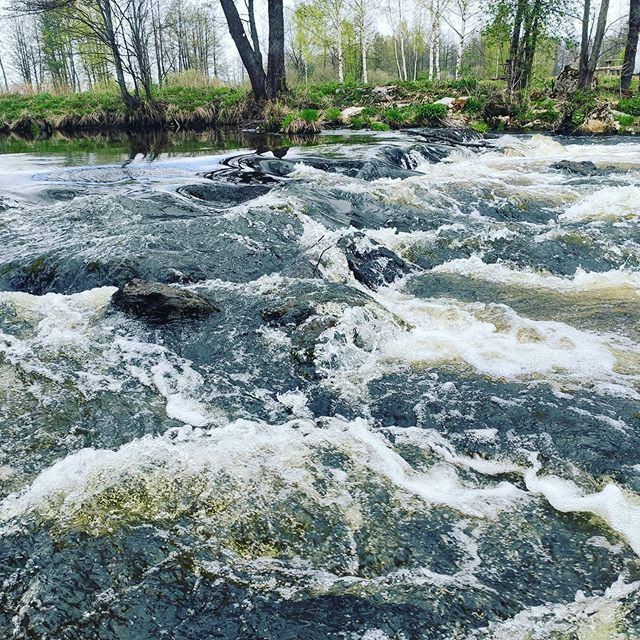river: (1, 137, 640, 640)
vegetation: (12, 1, 640, 135)
